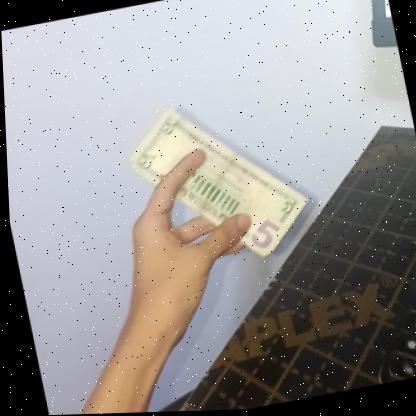five-back: (115, 83, 318, 281)
